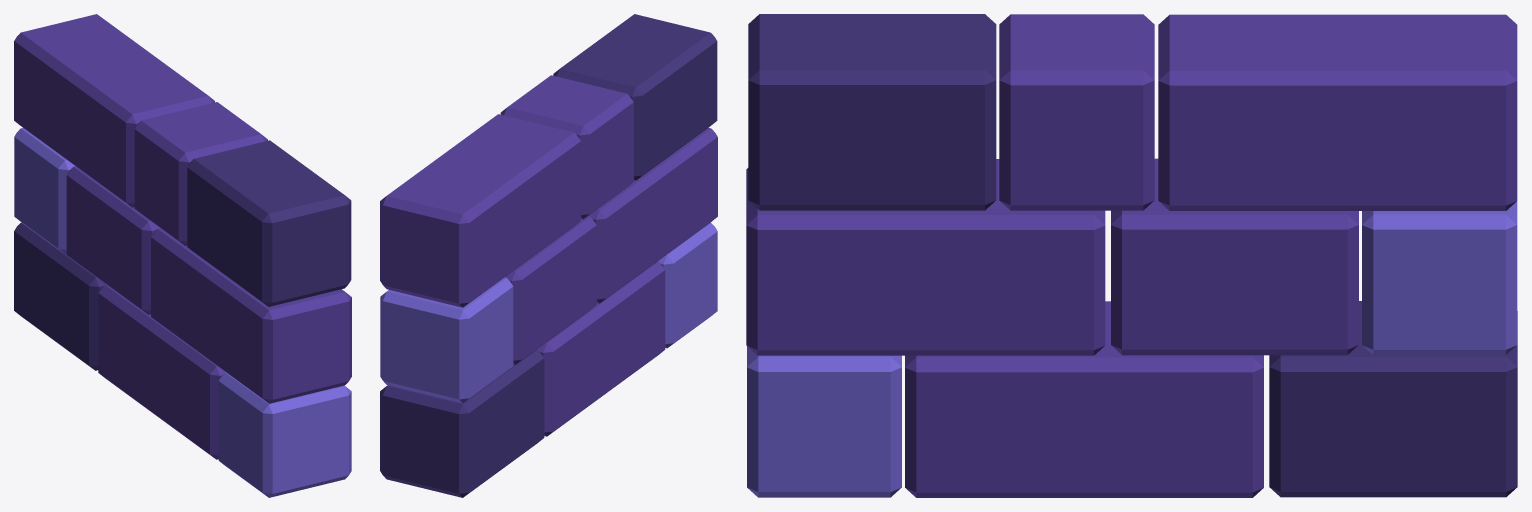
The model's file is medium ruin walls.fbx.
The picture shows the model from 3 angles, left to right: view 1: azimuth 30°, elevation 25°; view 2: azimuth 150°, elevation 25°; view 3: azimuth 270°, elevation 25°; orthographic projection. The views are drawn at different scales.
Parts seen in each view (by area): view 1: brocken wall small; view 2: brocken wall small; view 3: brocken wall small.
Boxes of the visible parts, left/top/right/bottom form: brocken wall small: left=14, top=14, right=351, bottom=497; brocken wall small: left=380, top=14, right=717, bottom=497; brocken wall small: left=746, top=14, right=1517, bottom=497.
Size of the model in its own units: 122 by 370 by 605.
